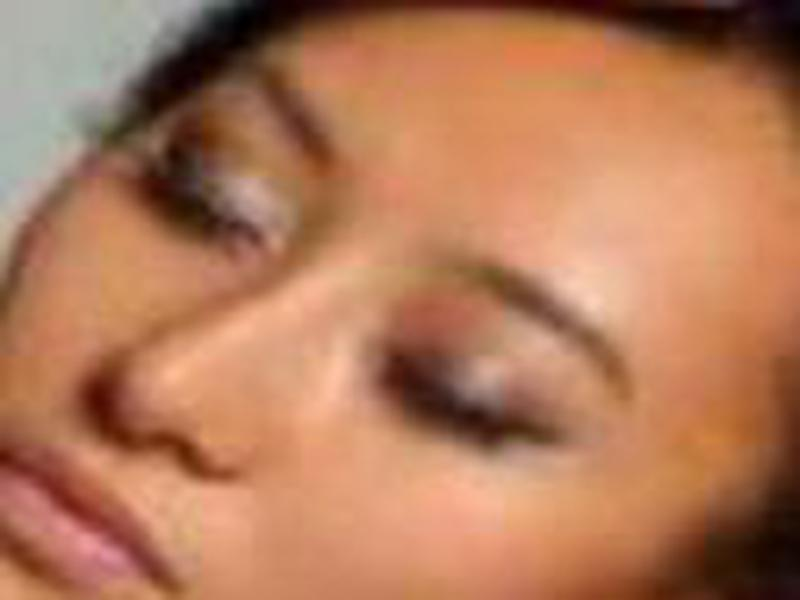without_mask: (6, 14, 795, 600)
